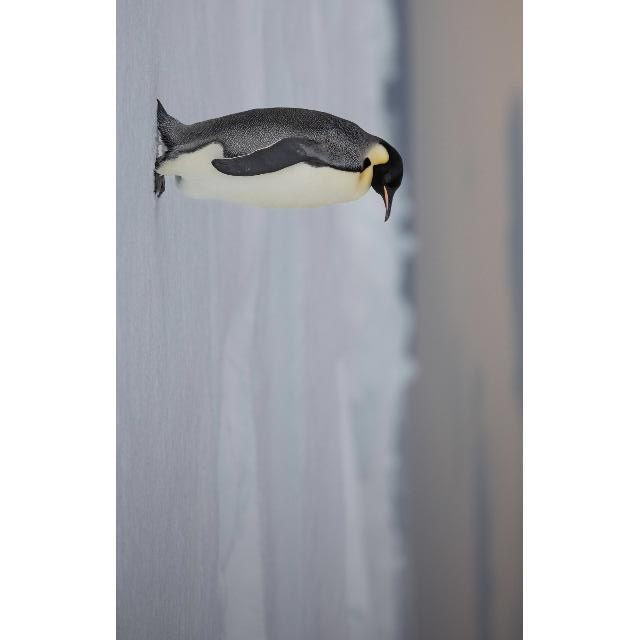penguin: (153, 98, 406, 224)
